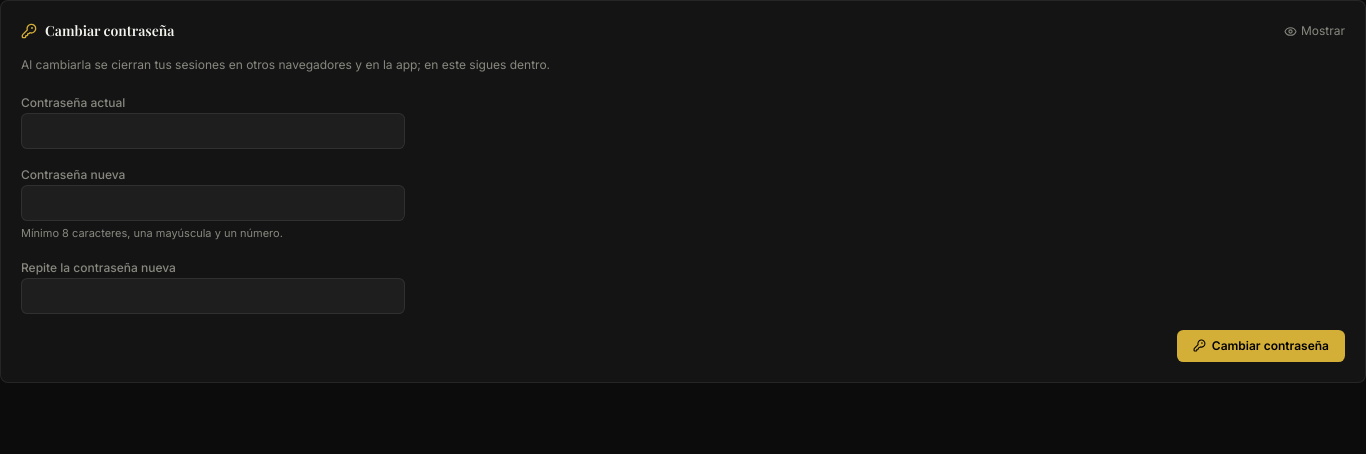
ChangePasswordForm (hueco #5) › si la actual no es correcta, lo dice
Type "Mala1234" into the password field labelled "Contraseña actual" at (213, 131), box [21, 113, 405, 149]
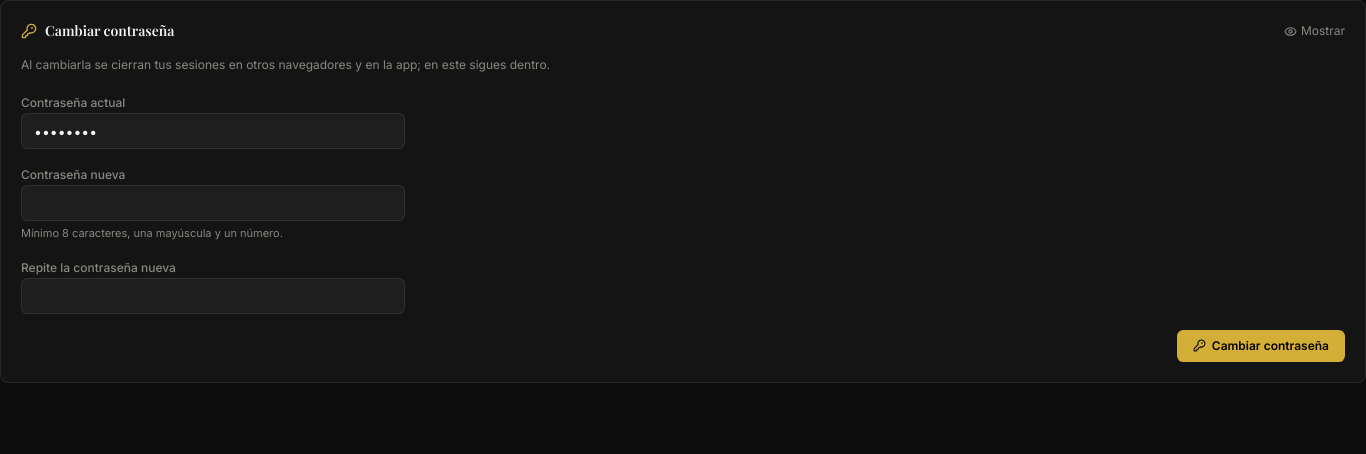
Type "Nueva1234" into the password field labelled "Contraseña nueva" at (213, 203), box [21, 185, 405, 221]
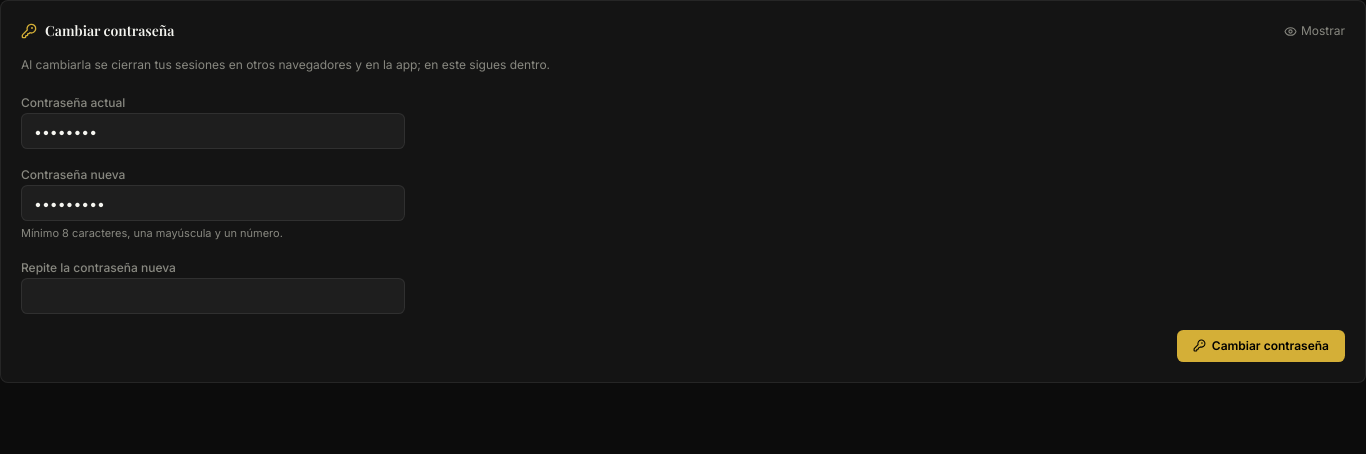
Type "Nueva1234" into the password field labelled "Repite la contraseña nueva" at (213, 296), box [21, 278, 405, 314]
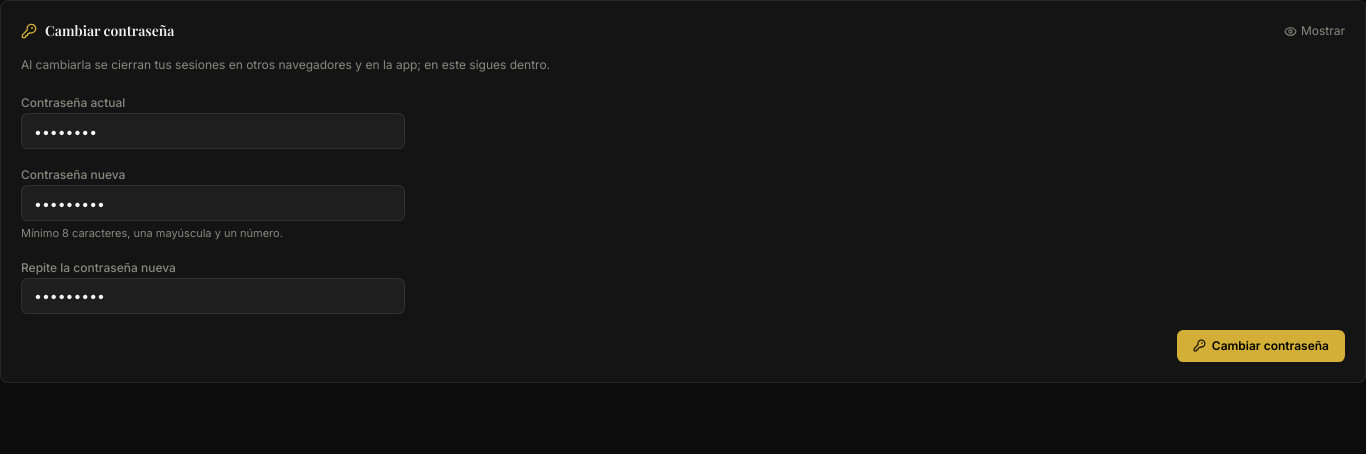
Click the button "Cambiar contraseña" at (1261, 346), box [1177, 330, 1345, 362]
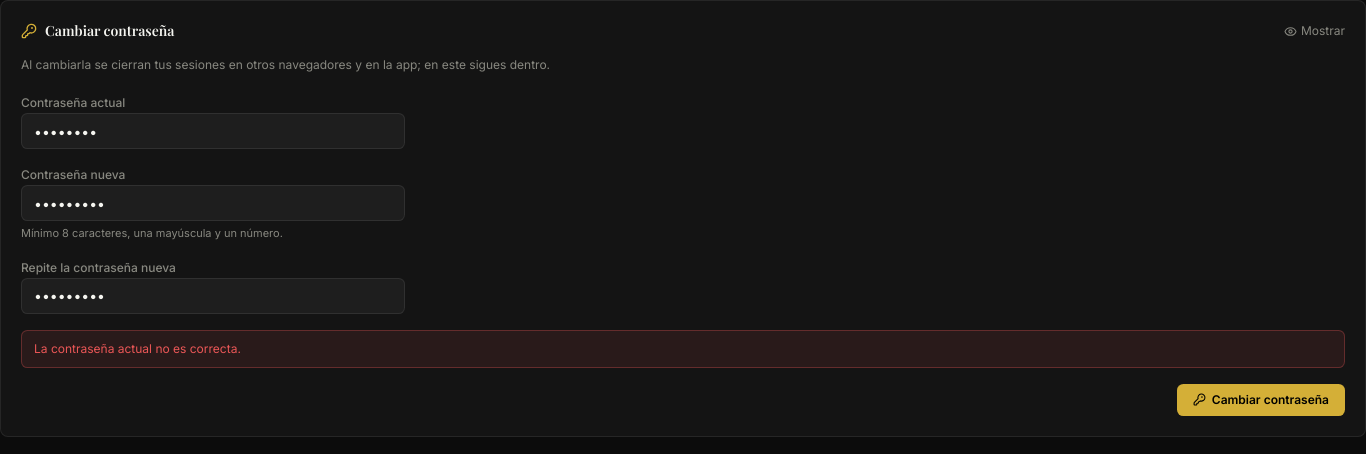
Check: the message reads "La contraseña actual no es correcta.", box [34, 340, 241, 356]
